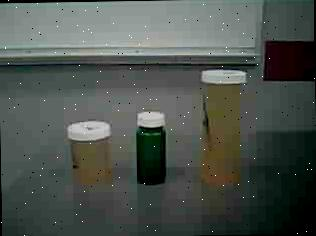Bottle A: (190, 64, 256, 195)
Bottle B: (64, 115, 122, 185)
Bottle C: (127, 99, 173, 190)
